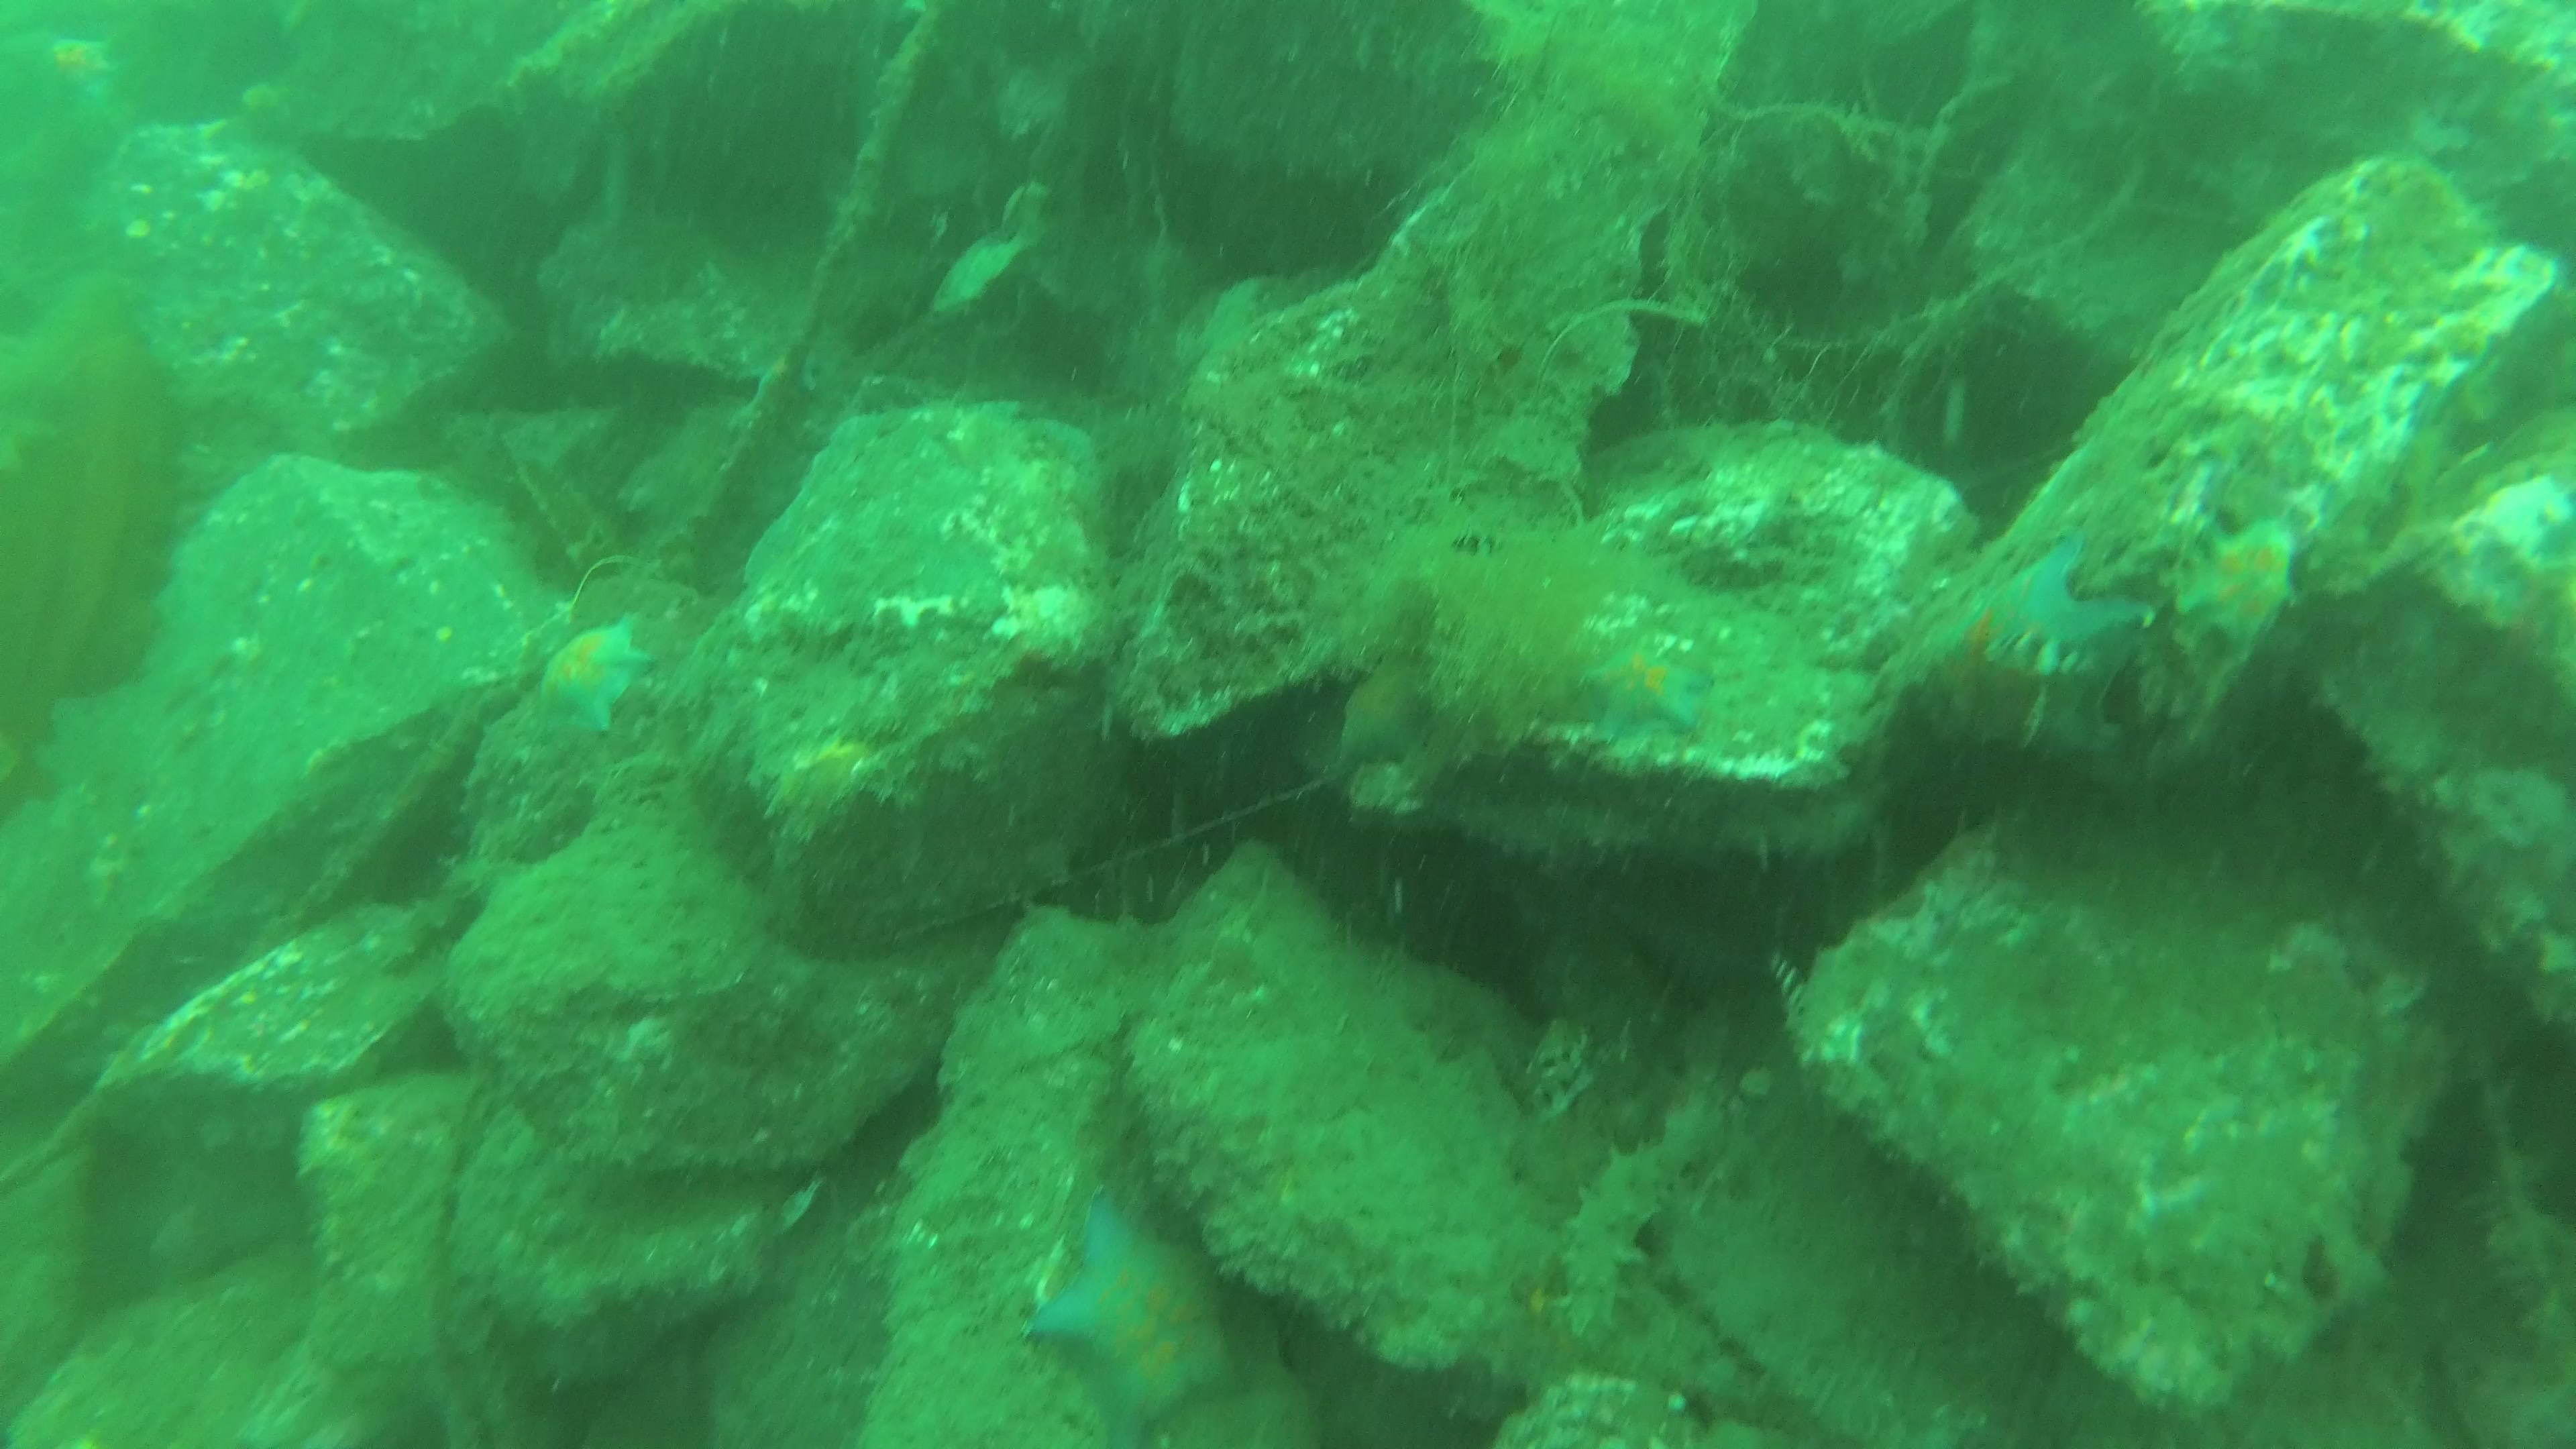holothurian: (1555, 1138, 1698, 1341)
starfish: (1021, 1182, 1260, 1449), (1909, 524, 2158, 763), (2454, 467, 2576, 635), (2176, 517, 2298, 662), (1580, 644, 1716, 748), (533, 630, 646, 729), (35, 34, 115, 99)
